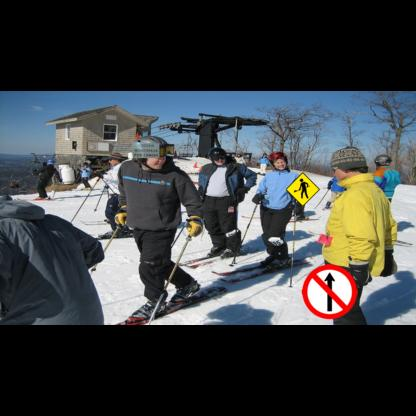A-24: (285, 172, 320, 207)
I-E: (133, 142, 159, 158)
R-3: (302, 264, 357, 319)
